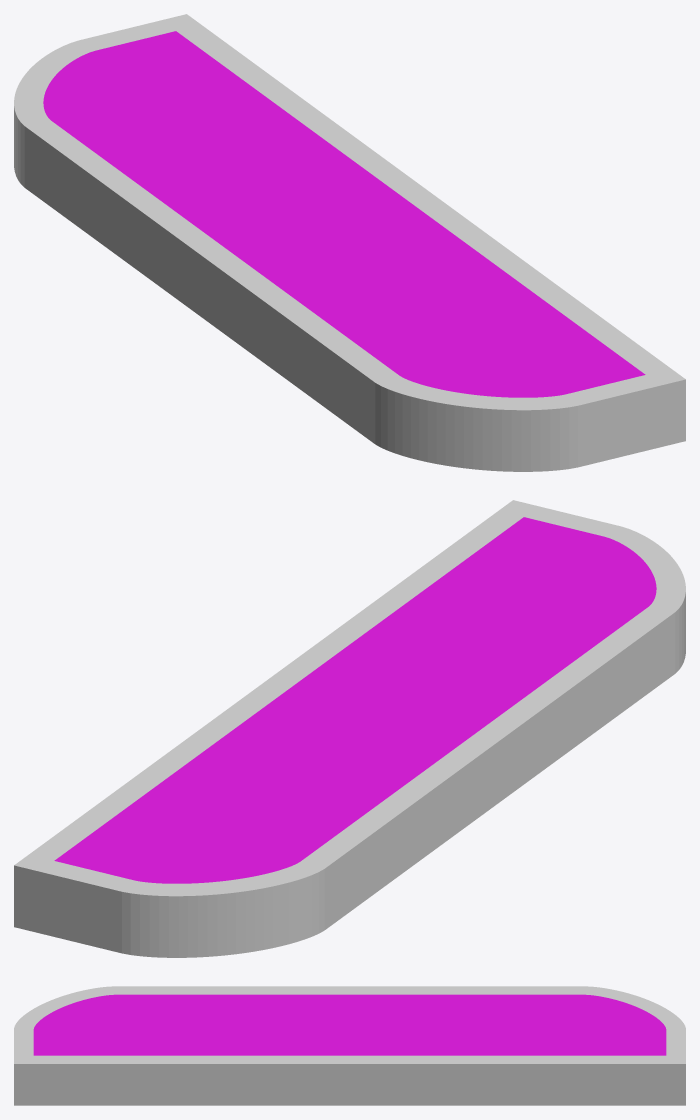
The model's file is ground_side_large.fbx.
The picture shows the model from 3 angles, top to bottom: view 1: azimuth 30°, elevation 25°; view 2: azimuth 150°, elevation 25°; view 3: azimuth 270°, elevation 25°; orthographic projection. The views are drawn at different scales.
Parts seen in each view (by area): view 1: Cube; view 2: Cube; view 3: Cube.
Part boxes in pixels (box(x1,y1,x2,y2)): Cube: box(14, 14, 685, 471); Cube: box(14, 500, 685, 957); Cube: box(14, 986, 685, 1105).
Bounding box in the file's own units: 162 × 40.4 × 592.
